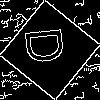D: (25, 25, 74, 66)
